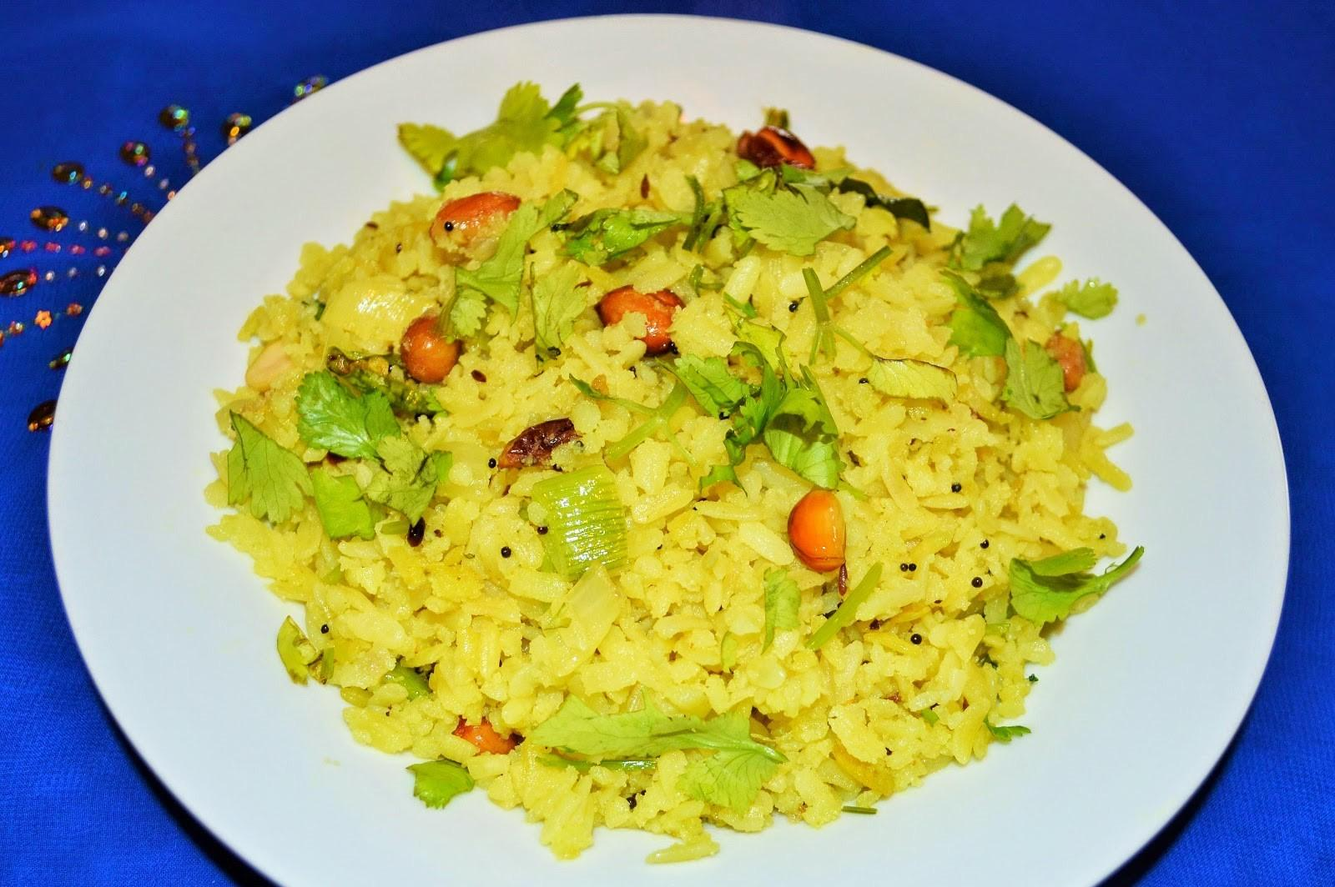Poha: (247, 88, 1139, 867)
